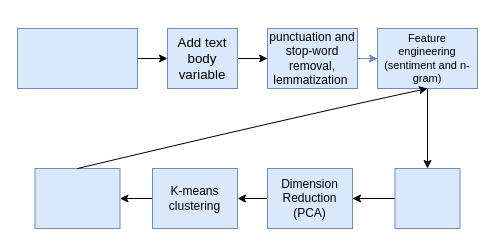
Image size: 495x246. Some labels were removed from this diagram. Each missing label, with the box of its shape:
Filter co-occurrence dataset by 'paris', expand rows: (16, 28, 138, 88)
Model Evaluation: (34, 168, 120, 228)
TF-IDF: (394, 168, 460, 228)
